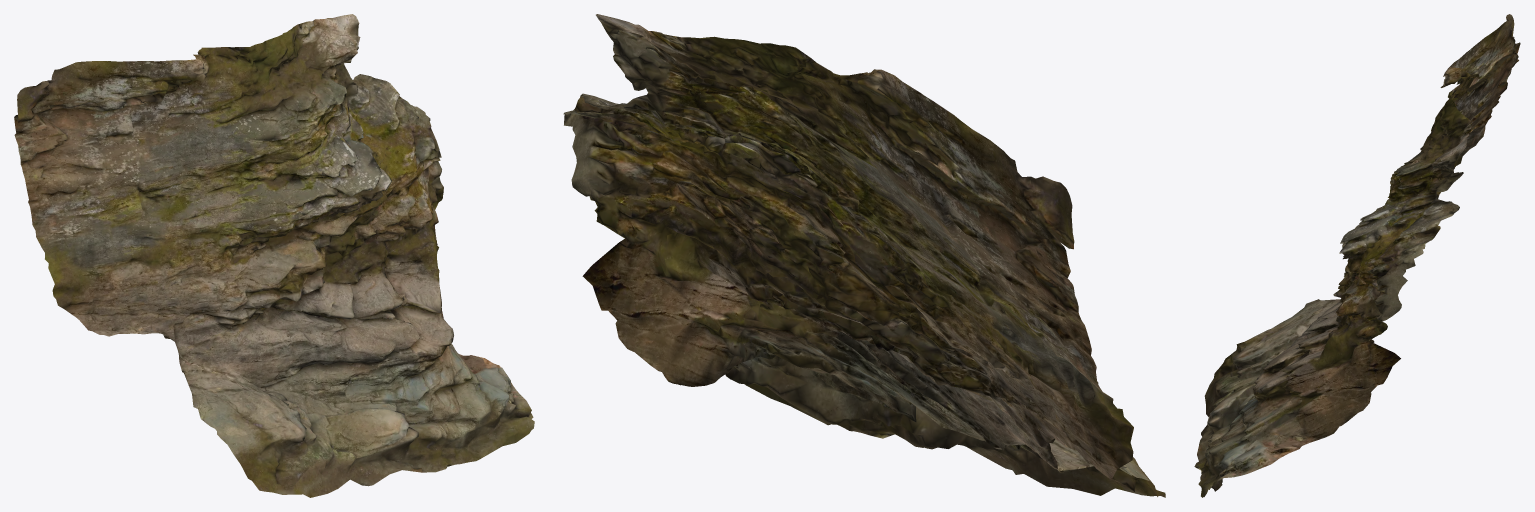
Rendered from rock_face_02.glb.
The picture shows the model from 3 angles, left to right: view 1: azimuth 30°, elevation 25°; view 2: azimuth 150°, elevation 25°; view 3: azimuth 270°, elevation 25°; orthographic projection. The views are drawn at different scales.
Parts seen in each view (by area): view 1: rock_face_02; view 2: rock_face_02; view 3: rock_face_02.
Part boxes in pixels (x1,y1,x2,y2): rock_face_02: [14, 14, 534, 497]; rock_face_02: [563, 14, 1165, 497]; rock_face_02: [1194, 14, 1520, 497].
Bounding box in the file's own units: 2.71 × 2.47 × 2.13.
1 material, 1 textured.
